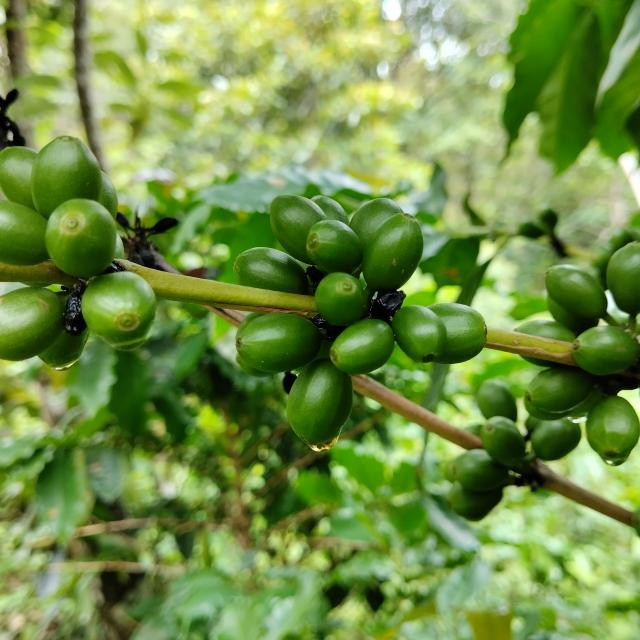green: (286, 358, 353, 446), (30, 135, 101, 218), (44, 198, 116, 278), (81, 272, 156, 347), (236, 314, 323, 373), (362, 212, 424, 292), (0, 287, 64, 361), (270, 195, 327, 264), (587, 396, 640, 466), (330, 319, 395, 375), (233, 247, 309, 294), (430, 304, 488, 364), (546, 264, 609, 319), (574, 325, 639, 376), (526, 366, 595, 414), (392, 305, 448, 363), (0, 200, 48, 265), (306, 220, 362, 274), (350, 198, 404, 250), (315, 272, 366, 326), (0, 146, 37, 210), (608, 242, 640, 315), (37, 326, 88, 371), (548, 296, 600, 336), (516, 320, 577, 343), (311, 195, 350, 225), (97, 171, 118, 218), (523, 356, 559, 367)
